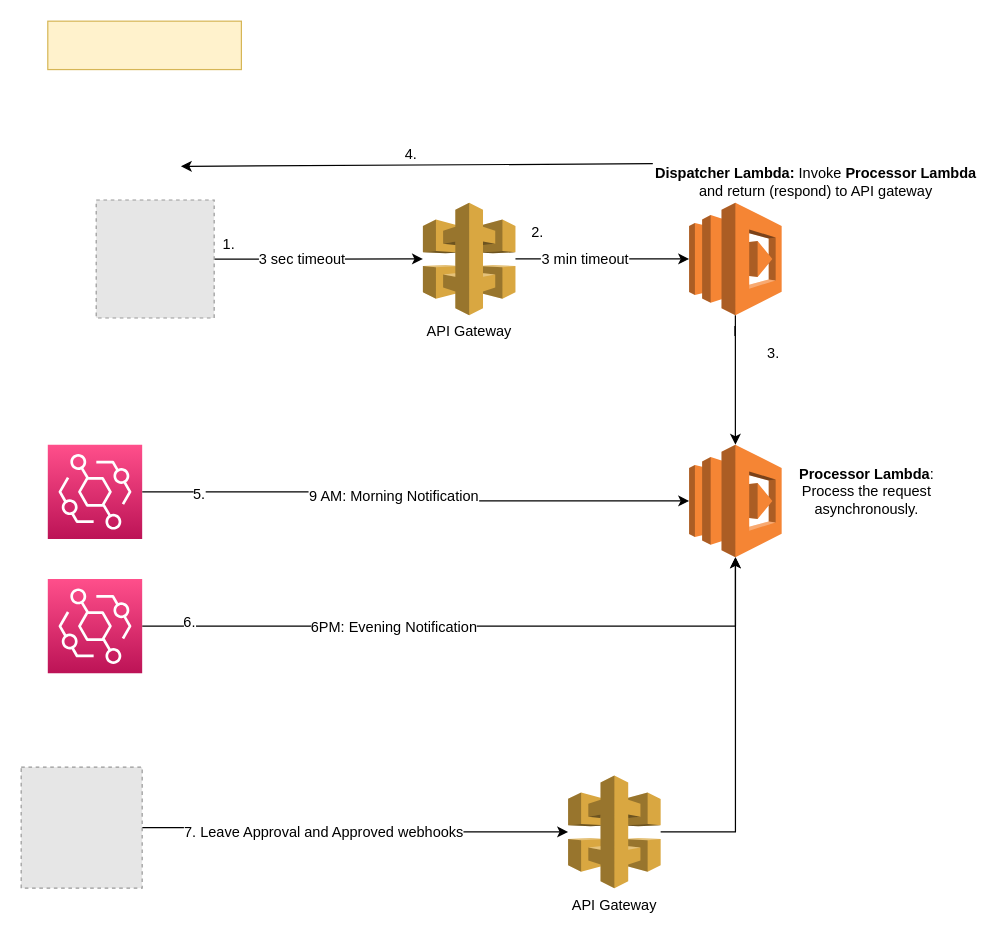
This 1001x934 diagram has some shape labels left out. Grey dashed boxes stand in for pictures. The centre of each missing label's shape, as x and y in pixels:
"Architecture" belongs at pixel 144 45.
"Event Bridge" belongs at pixel 94 491.
